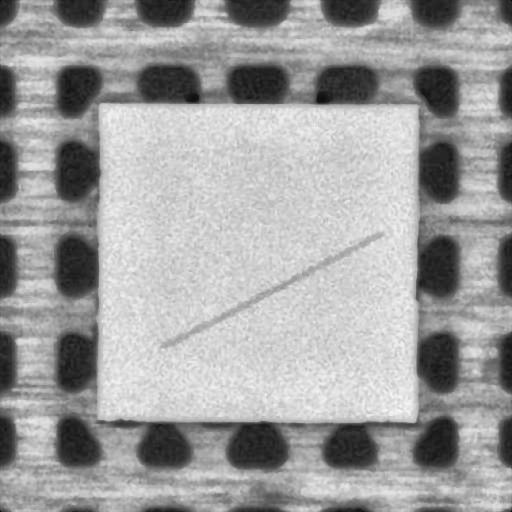DIE_CRACK: (162, 233, 380, 347)
